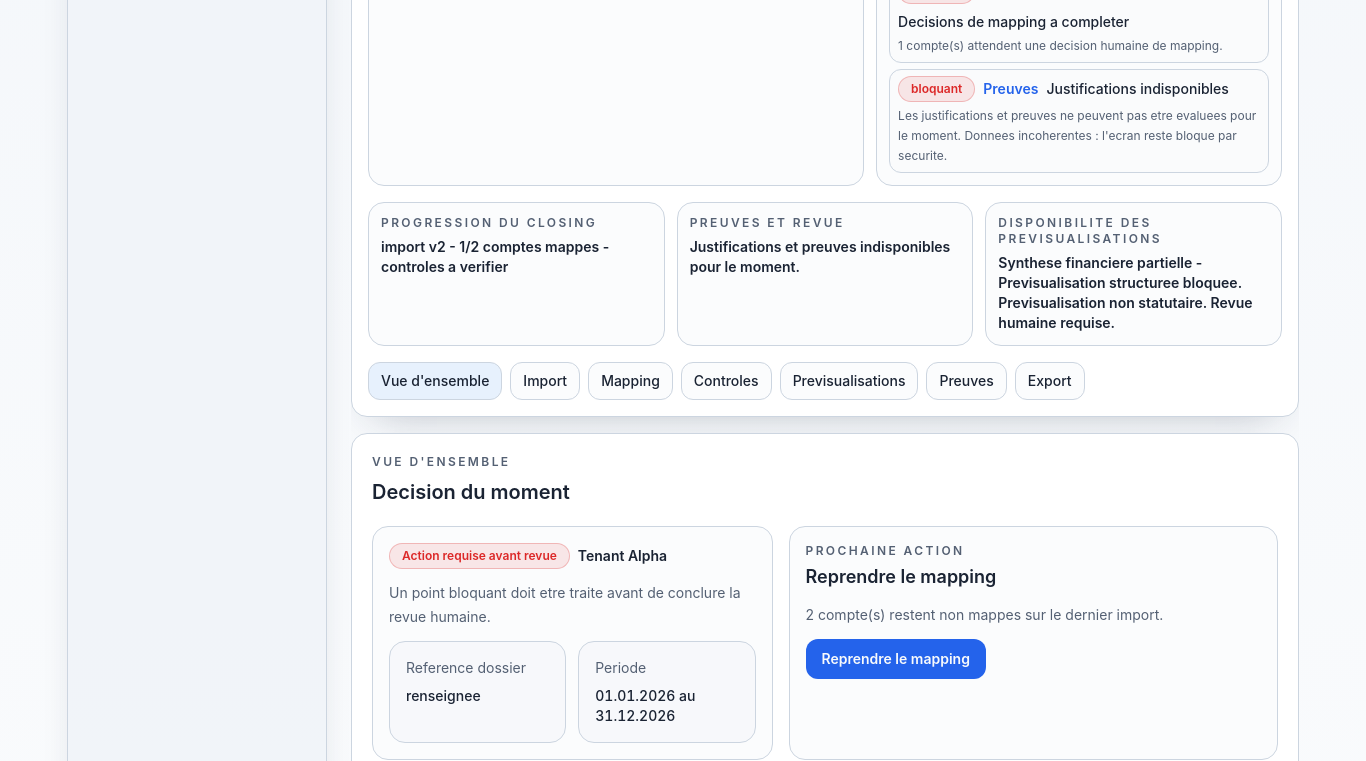
Test case: router import balance › renders invalid history payload when versions is unusable
(page scrolled)
Click the tab "Import". click: (545, 381)
box: x1=510 y1=362 x2=580 y2=400
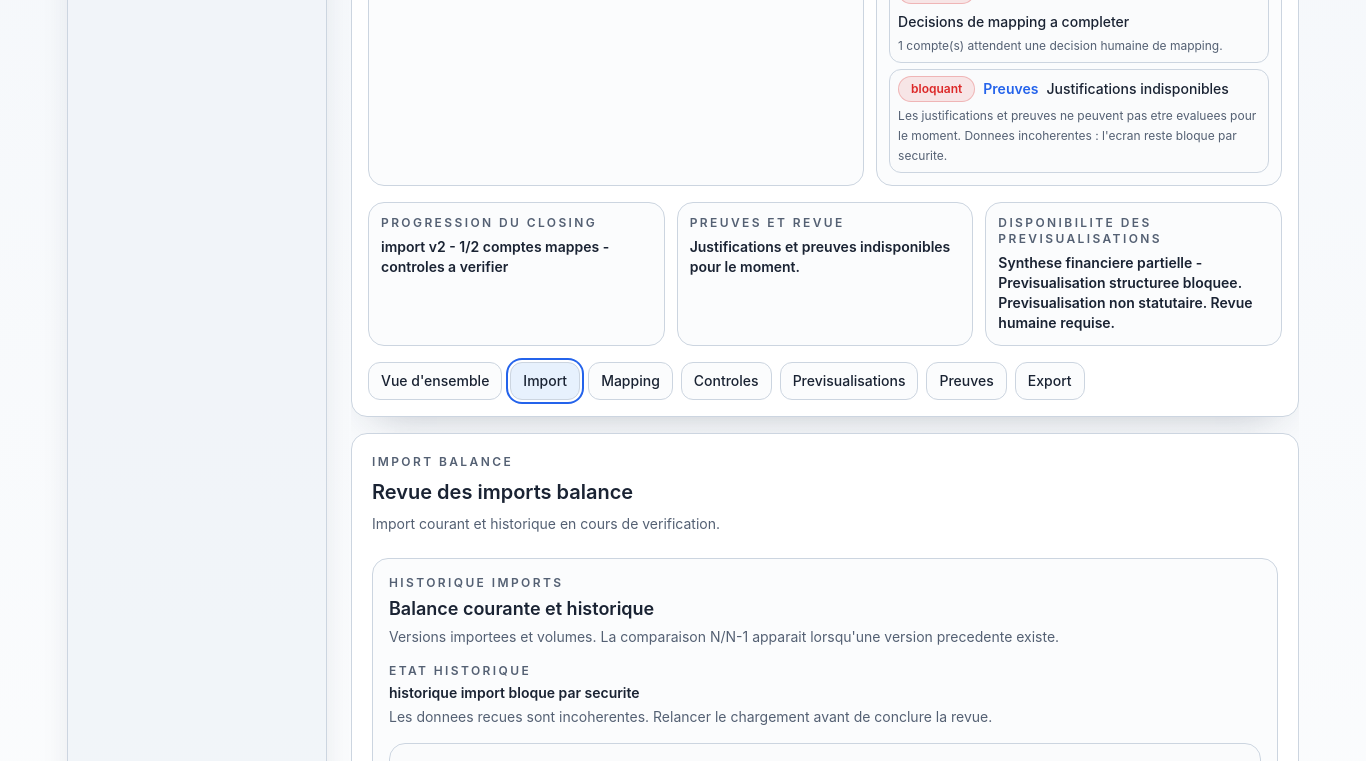
Expected: the heading "Revue des imports balance" is shown, x1=372 y1=480 x2=633 y2=504
Expected: the text "historique import bloque par securite" is shown, x1=389 y1=684 x2=640 y2=701
